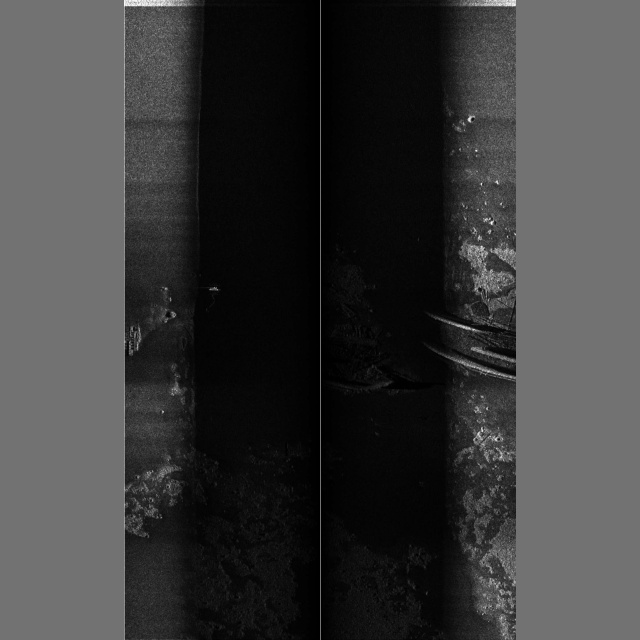Shipwreck: (126, 289, 516, 437)
